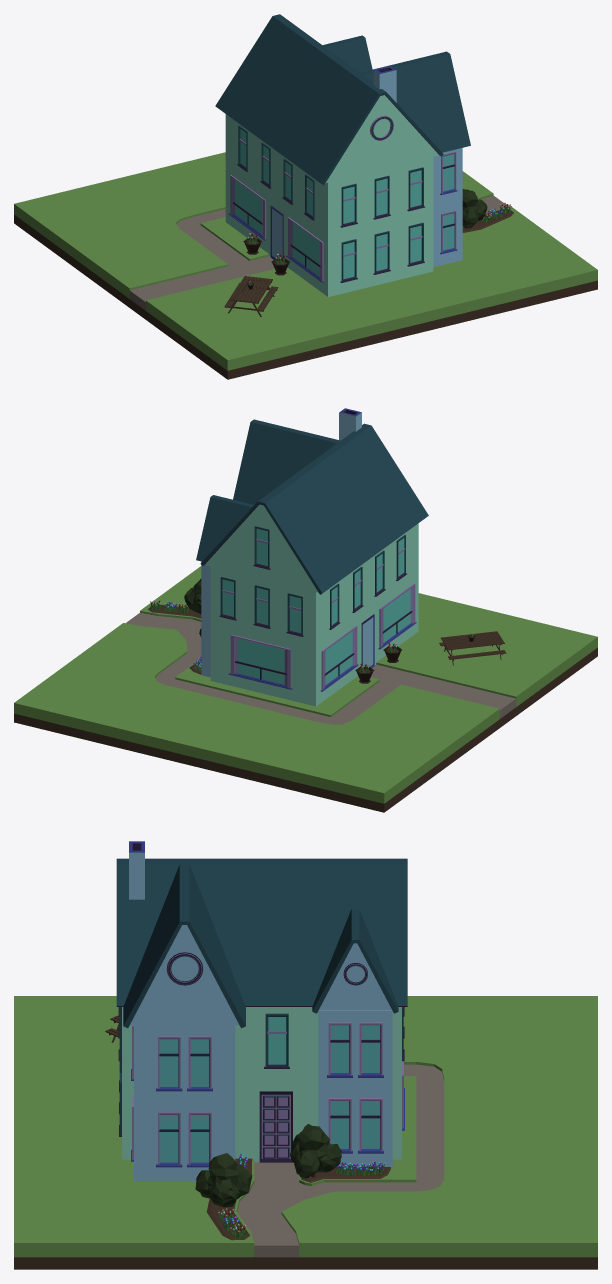
The model's file is house_2.obj.
The picture shows the model from 3 angles, top to bottom: view 1: azimuth 30°, elevation 25°; view 2: azimuth 150°, elevation 25°; view 3: azimuth 270°, elevation 25°; orthographic projection. The views are drawn at different scales.
Parts seen in each view (by area): view 1: house_2_h; view 2: house_2_h; view 3: house_2_h.
Part boxes in pixels (x1,y1,x2,y2): house_2_h: (14, 14, 597, 379); house_2_h: (14, 408, 597, 812); house_2_h: (14, 841, 597, 1269).
Size of the model in its own units: 22 by 12.92 by 22.
